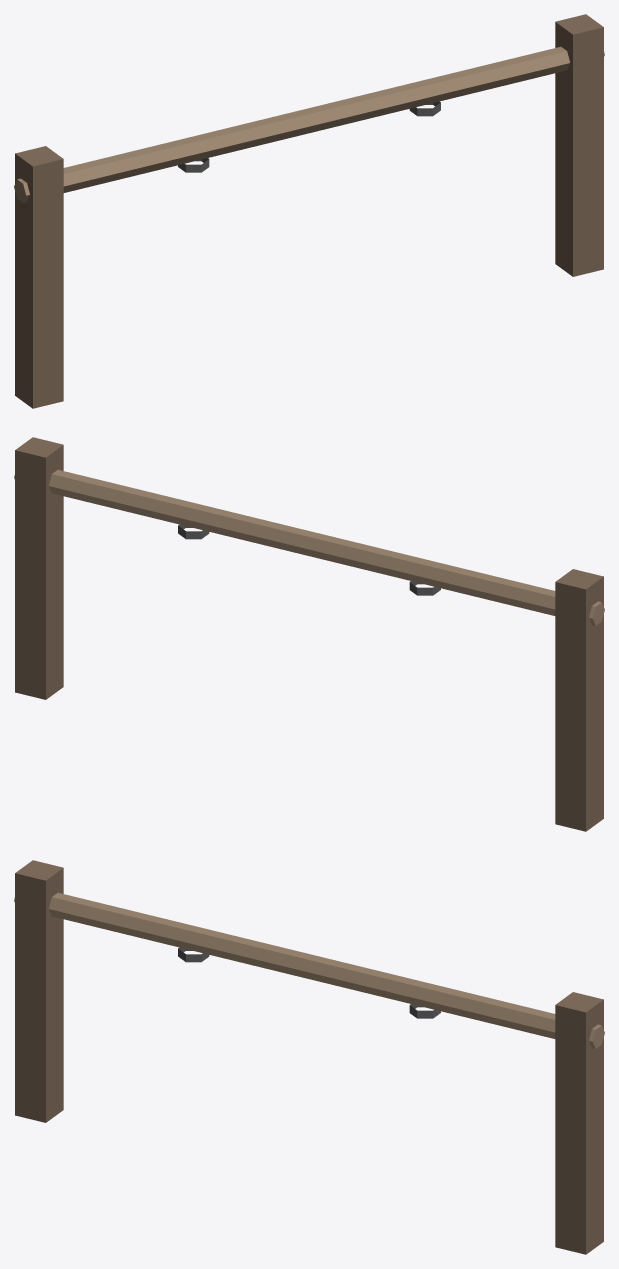
The model's file is SM_BM_BHip_TieRail.glb.
The picture shows the model from 3 angles, top to bottom: view 1: azimuth 30°, elevation 25°; view 2: azimuth 150°, elevation 25°; view 3: azimuth 330°, elevation 25°; orthographic projection.
Parts seen in each view (by area): view 1: SM_BM_BHip_TieRail; view 2: SM_BM_BHip_TieRail; view 3: SM_BM_BHip_TieRail.
Boxes of the visible parts, box(x1,y1,x2,y2) form: SM_BM_BHip_TieRail: box(14, 14, 604, 408); SM_BM_BHip_TieRail: box(14, 437, 604, 831); SM_BM_BHip_TieRail: box(14, 860, 604, 1254).
Size of the model in its own units: 3 by 1.2 by 0.16.
